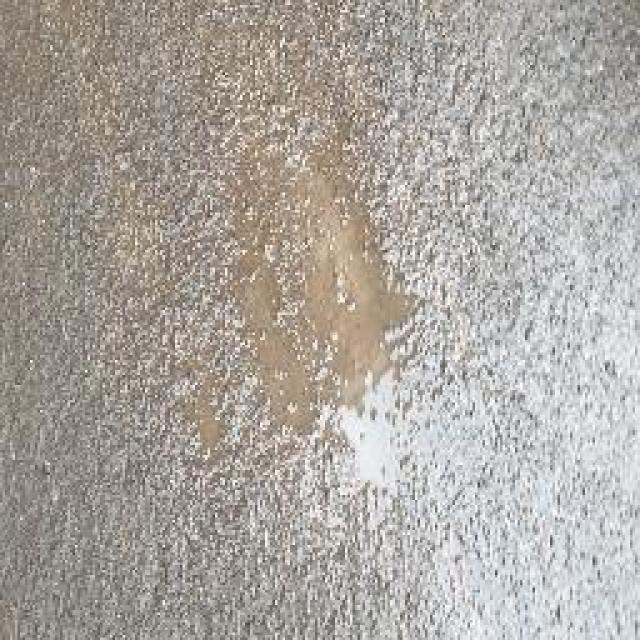waterlogging: (168, 100, 458, 457)
